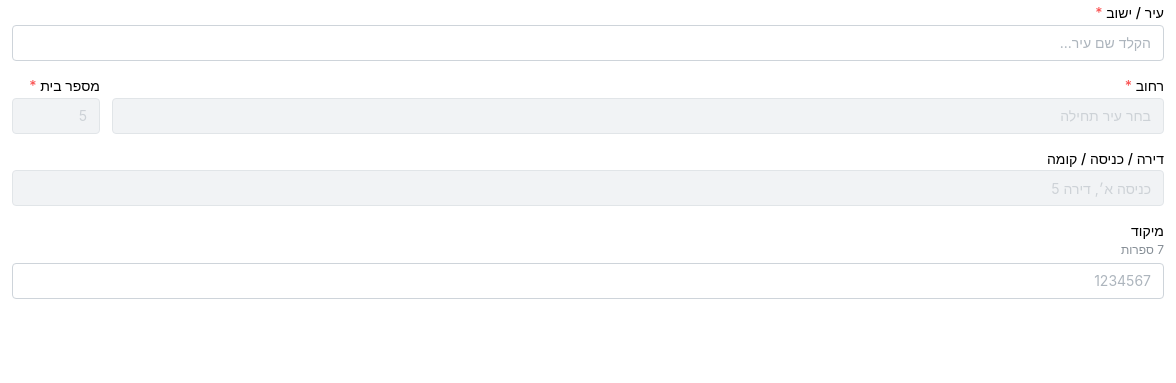
Scenario: AddressAutocomplete › API error handling › shows a warning when street API returns an error
Type "תל אביב - יפו" into the field labelled "עיר / ישוב *" at (588, 43), box [12, 25, 1164, 61]
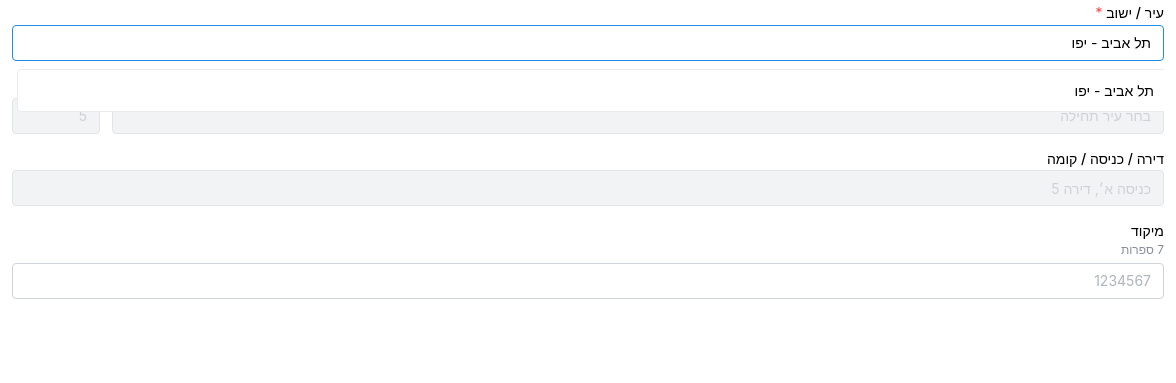
Expected: the option "תל אביב - יפו" is shown
Click the option "תל אביב - יפו" at (1114, 90), box [1074, 82, 1154, 99]
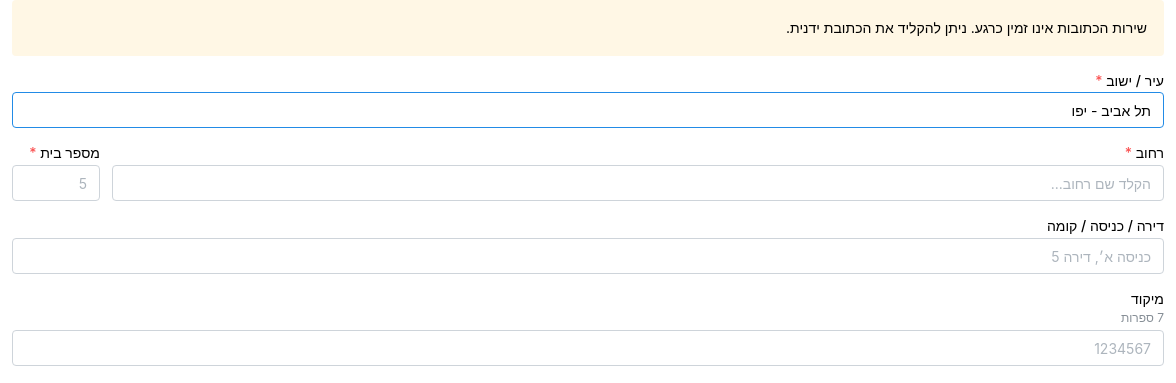
Expected: the message "שירות הכתובות אינו זמין כרגע. ניתן להקליד את הכתובת ידנית." is shown, [12, 0, 1164, 56]
